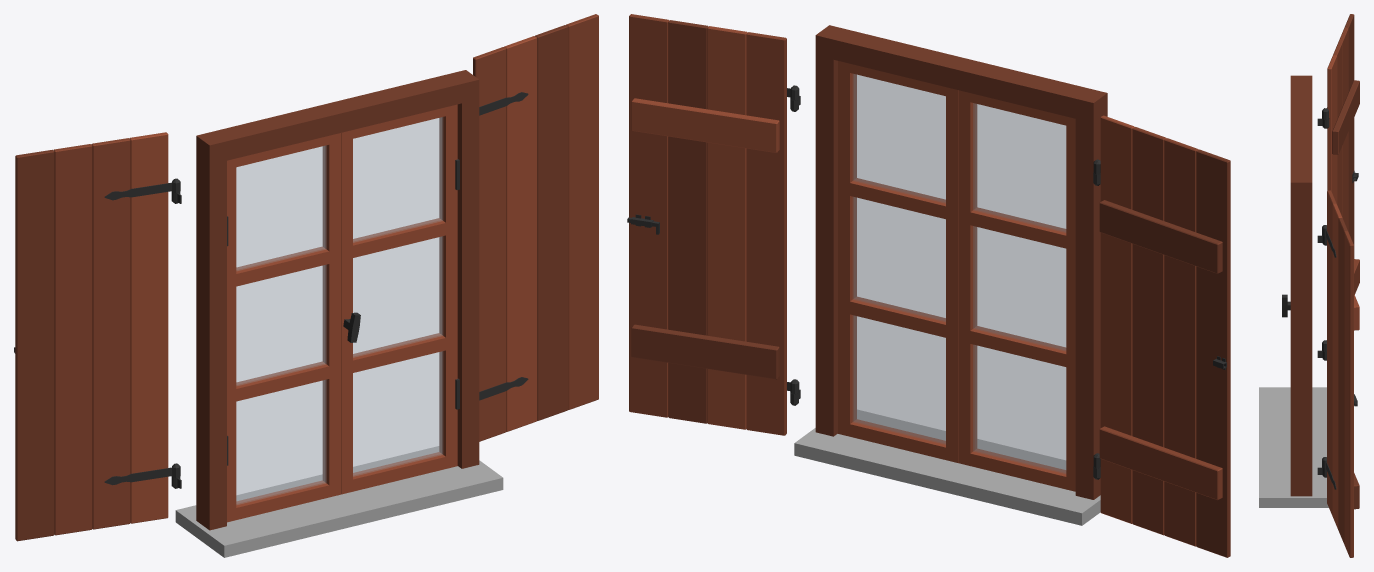
File: window open shutters.fbx
3 renders of one model, left to right at view 1: azimuth 30°, elevation 25°; view 2: azimuth 150°, elevation 25°; view 3: azimuth 270°, elevation 25°, orthographic. The views are drawn at different scales.
Parts seen in each view (by area): view 1: rotazione_anta_sx, rotazione_anta_dx, Anta_dx, Anta_sx, Cornice, Davanzale; view 2: rotazione_anta_dx, rotazione_anta_sx, Anta_dx, Anta_sx, Cornice, Davanzale; view 3: Cornice, rotazione_anta_dx, Davanzale, rotazione_anta_sx, cardine_fisso_anta_dx, Anta_dx, cardine_fisso_anta_dx_2.
Boxes of the visible parts, bbox=[...] form: rotazione_anta_sx: bbox=[14, 132, 180, 541]; rotazione_anta_dx: bbox=[473, 14, 598, 441]; Anta_dx: bbox=[341, 104, 459, 494]; Anta_sx: bbox=[227, 133, 340, 522]; Cornice: bbox=[196, 70, 479, 530]; Davanzale: bbox=[175, 446, 503, 557]; rotazione_anta_dx: bbox=[627, 14, 799, 435]; rotazione_anta_sx: bbox=[1093, 115, 1230, 557]; Anta_dx: bbox=[838, 61, 958, 462]; Anta_sx: bbox=[958, 90, 1075, 491]; Cornice: bbox=[815, 25, 1107, 499]; Davanzale: bbox=[794, 409, 1100, 525]; Cornice: bbox=[1290, 75, 1312, 496]; rotazione_anta_dx: bbox=[1322, 190, 1359, 557]; Davanzale: bbox=[1259, 387, 1328, 507]; rotazione_anta_sx: bbox=[1322, 14, 1359, 351]; cardine_fisso_anta_dx: bbox=[1317, 118, 1329, 360]; Anta_dx: bbox=[1282, 294, 1290, 317]; cardine_fisso_anta_dx_2: bbox=[1317, 235, 1326, 477].
Size of the model in its own units: 188 by 122 by 34.58.
